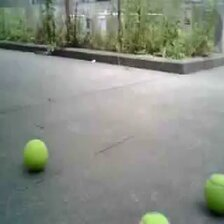tennis: (205, 173, 224, 214), (24, 139, 48, 167)
